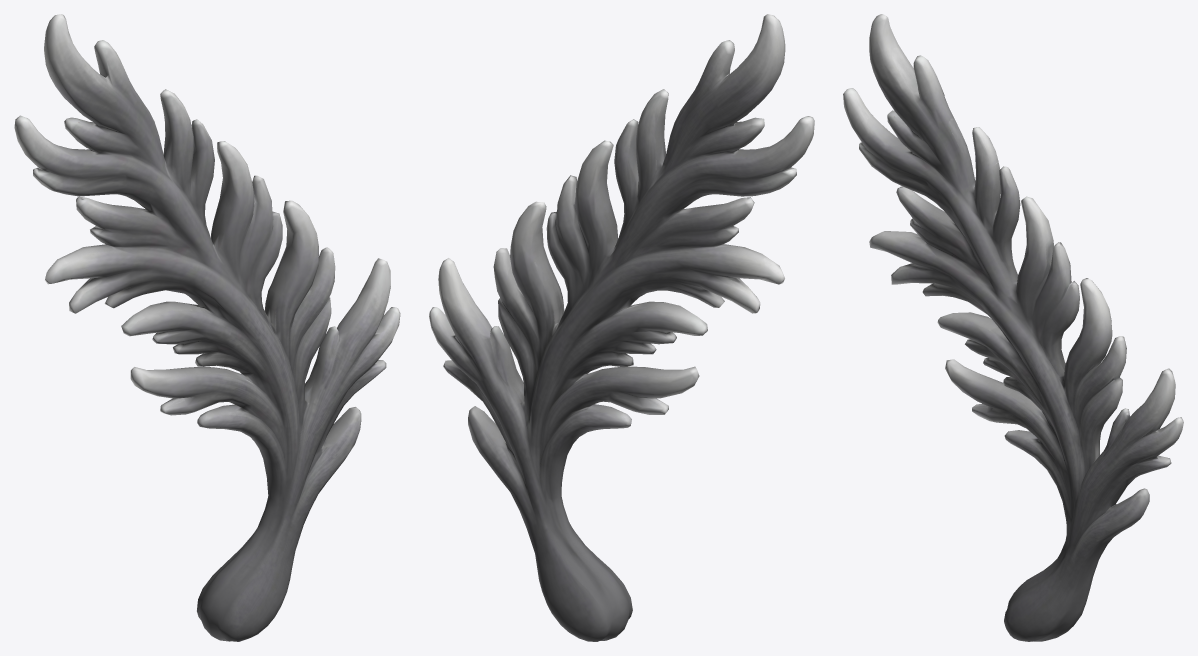
The model's file is gill_base1.glb.
The picture shows the model from 3 angles, left to right: view 1: azimuth 30°, elevation 25°; view 2: azimuth 150°, elevation 25°; view 3: azimuth 330°, elevation 25°; orthographic projection. The views are drawn at different scales.
Parts seen in each view (by area): view 1: tripo_node_6846eebe-a566-4dae-933c-6d1299a8be78; view 2: tripo_node_6846eebe-a566-4dae-933c-6d1299a8be78; view 3: tripo_node_6846eebe-a566-4dae-933c-6d1299a8be78.
Boxes of the visible parts, bbox=[...] form: tripo_node_6846eebe-a566-4dae-933c-6d1299a8be78: bbox=[14, 14, 400, 641]; tripo_node_6846eebe-a566-4dae-933c-6d1299a8be78: bbox=[429, 14, 814, 641]; tripo_node_6846eebe-a566-4dae-933c-6d1299a8be78: bbox=[843, 14, 1183, 641].
Size of the model in its own units: 0.5897 by 0.9787 by 0.0993.
1 material, 1 textured.
